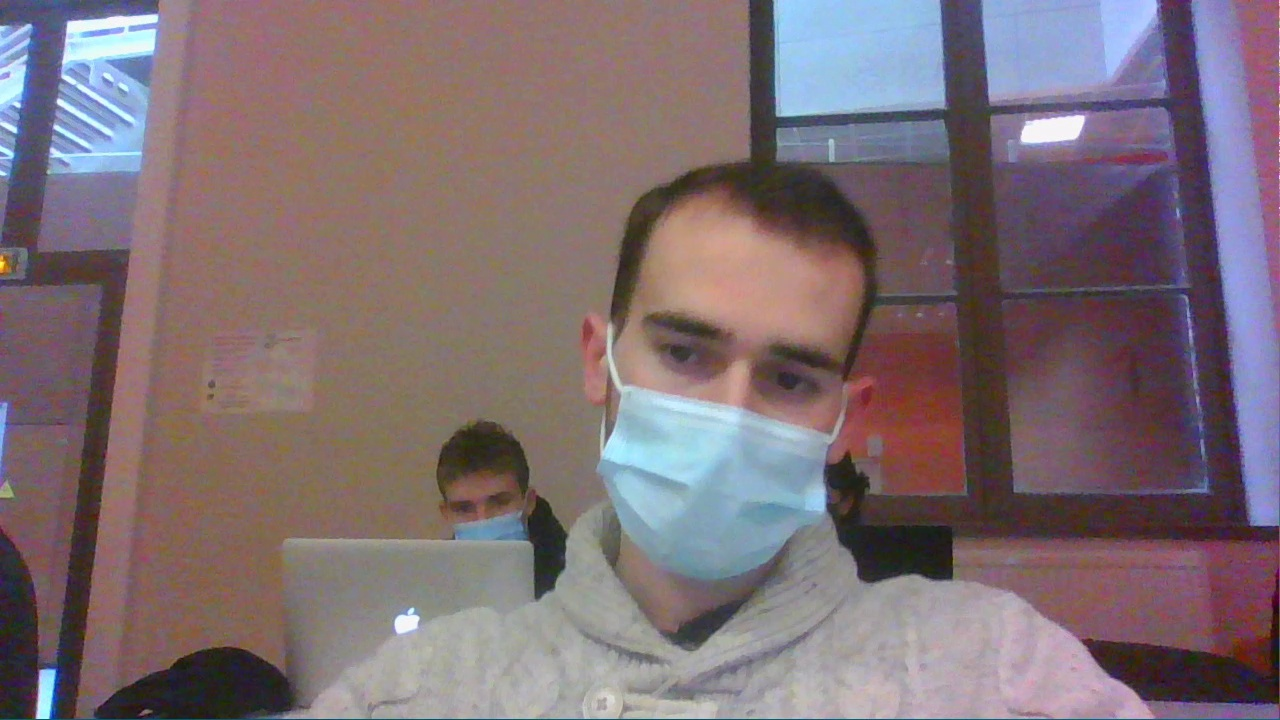mask: (568, 160, 831, 572), (434, 420, 524, 532)
